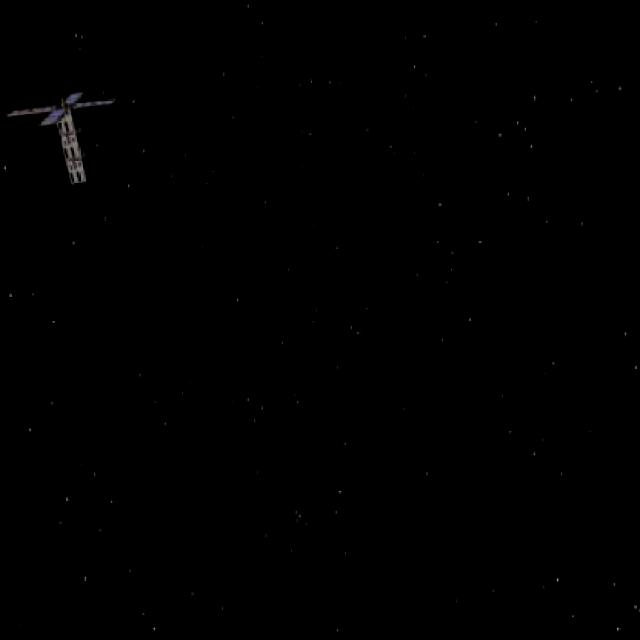satellite: (2, 77, 138, 190)
